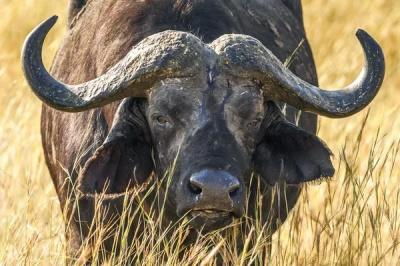buffalo: (42, 0, 382, 253)
